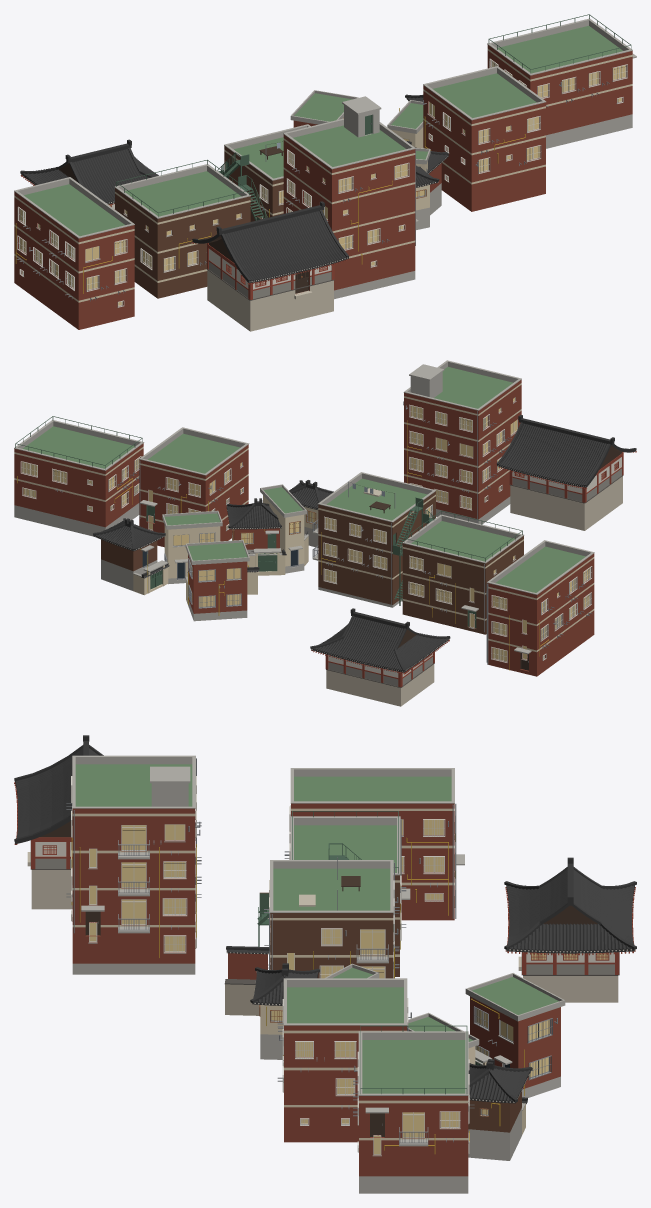
File: Z1_Alley.fbx
3 renders of one model, top to bottom at view 1: azimuth 30°, elevation 25°; view 2: azimuth 150°, elevation 25°; view 3: azimuth 270°, elevation 25°, orthographic. The views are drawn at different scales.
Parts seen in each view (by area): view 1: villa_012_LOD0, villa_015_LOD0, villa_018_LOD0, hanok_016_LOD0, villa_017_LOD0, villa_014_LOD0, villa_011_LOD0, hanok_013_LOD0, villa_015_Detail_LOD0, house_062_LOD0, villa_012_Detail_LOD0, house_054_LOD0 (+9 smaller); view 2: villa_012_LOD0, villa_017_LOD0, villa_015_LOD0, villa_011_LOD0, hanok_016_LOD0, villa_014_LOD0, villa_018_LOD0, hanok_013_LOD0, house_062_LOD0, house_053_LOD0, house_056_LOD0, house_054_LOD0 (+18 smaller); view 3: villa_012_LOD0, villa_017_LOD0, villa_018_LOD0, hanok_013_LOD0, villa_015_LOD0, villa_011_LOD0, house_062_LOD0, hanok_016_LOD0, villa_014_LOD0, house_053_LOD0, house_064_LOD0, Fences_Alley_LOD0 (+12 smaller).
Part boxes in pixels (x1,y1,x2,y2): villa_012_LOD0: [283, 96, 418, 299]; villa_015_LOD0: [14, 177, 134, 329]; villa_018_LOD0: [423, 66, 546, 211]; hanok_016_LOD0: [192, 201, 348, 331]; villa_017_LOD0: [487, 14, 636, 148]; villa_014_LOD0: [114, 159, 267, 298]; villa_011_LOD0: [217, 124, 310, 221]; hanok_013_LOD0: [20, 139, 158, 209]; villa_015_Detail_LOD0: [15, 206, 127, 307]; house_062_LOD0: [290, 90, 358, 127]; villa_012_Detail_LOD0: [286, 149, 415, 267]; house_054_LOD0: [387, 100, 423, 148]; villa_012_LOD0: [403, 360, 521, 524]; villa_017_LOD0: [14, 416, 144, 536]; villa_015_LOD0: [487, 540, 594, 676]; villa_011_LOD0: [312, 472, 436, 607]; hanok_016_LOD0: [496, 414, 636, 530]; villa_014_LOD0: [402, 509, 524, 634]; villa_018_LOD0: [139, 427, 249, 547]; hanok_013_LOD0: [310, 608, 450, 706]; house_062_LOD0: [185, 540, 249, 621]; house_053_LOD0: [93, 518, 169, 595]; house_056_LOD0: [226, 498, 286, 575]; house_054_LOD0: [162, 510, 222, 584]; villa_012_LOD0: [72, 755, 195, 974]; villa_017_LOD0: [358, 1025, 468, 1193]; villa_018_LOD0: [283, 978, 407, 1142]; hanok_013_LOD0: [504, 857, 636, 1002]; villa_015_LOD0: [290, 768, 464, 920]; villa_011_LOD0: [270, 843, 393, 978]; house_062_LOD0: [465, 973, 565, 1097]; hanok_016_LOD0: [14, 735, 103, 909]; villa_014_LOD0: [257, 811, 410, 976]; house_053_LOD0: [468, 1059, 532, 1160]; house_064_LOD0: [250, 963, 320, 1059]; Fences_Alley_LOD0: [224, 946, 269, 1015].
Size of what is drawn, in the model's own units: 63.81 by 21.66 by 45.66.
